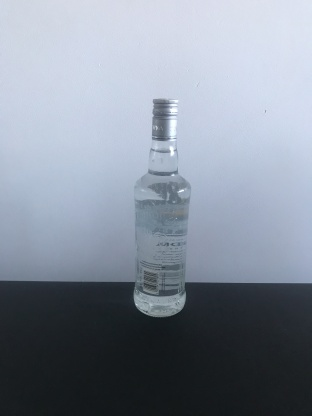nakretka: (150, 96, 179, 143)
